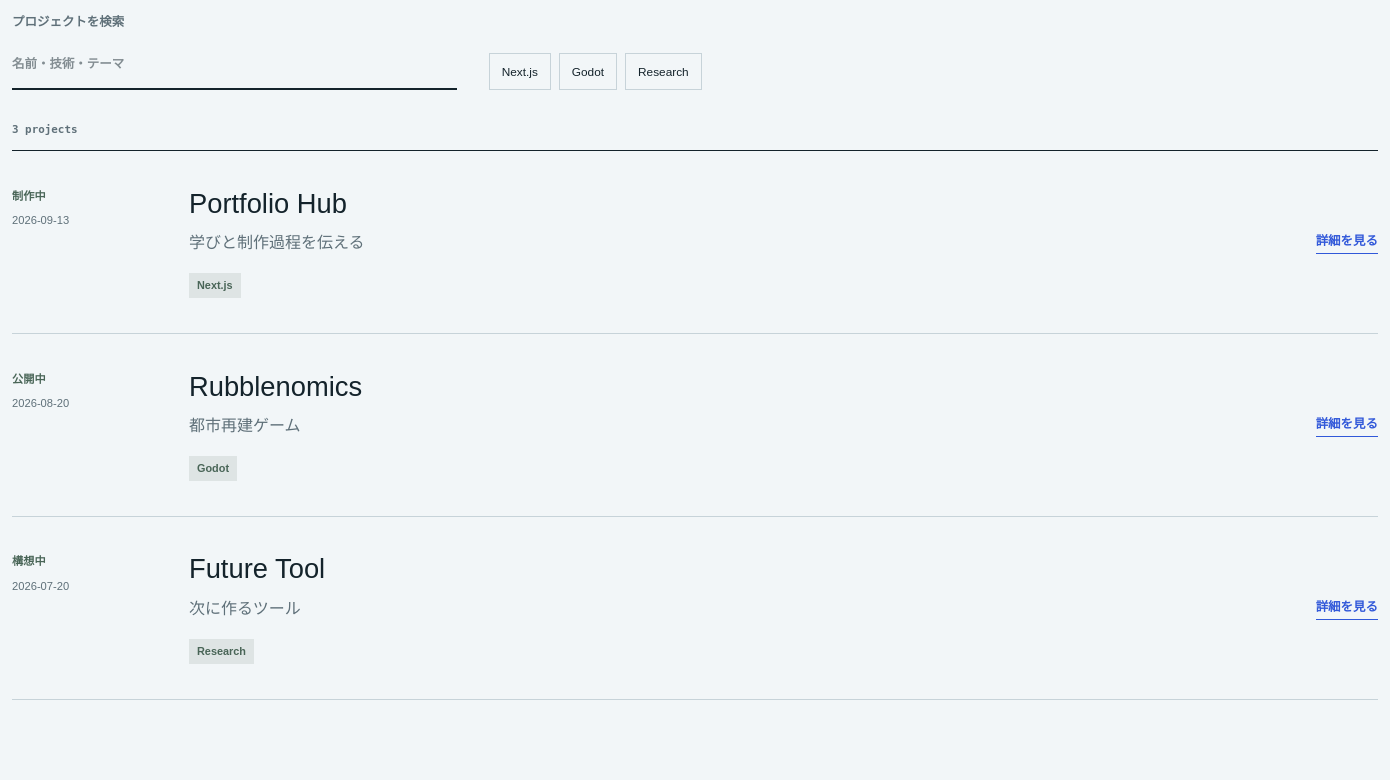
Scenario: ProjectExplorer › filters projects and exposes an empty state
Type "Godot" into the search field at point(234, 66), box x1=12 y1=41 x2=457 y2=90
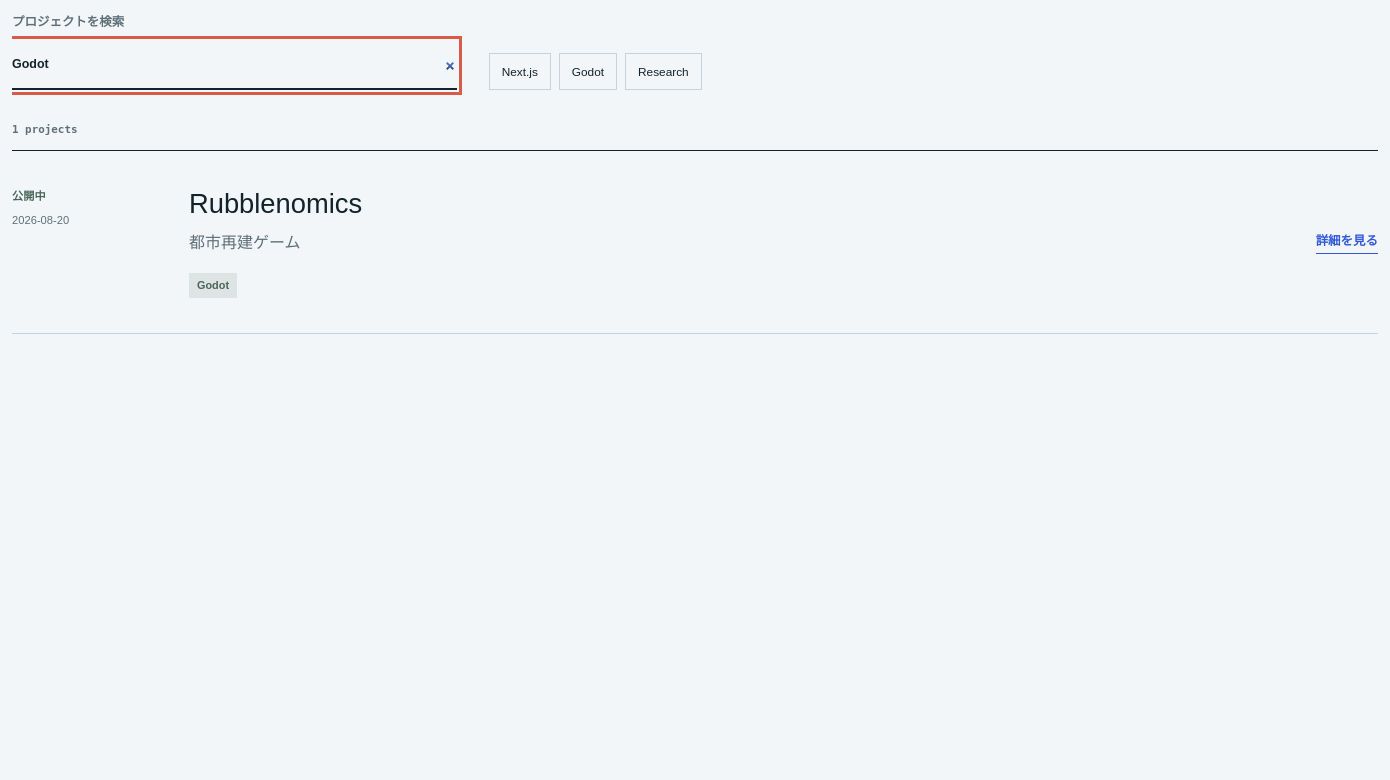
Expected: the link with aria-label "Rubblenomics" is shown, x1=1316 y1=231 x2=1378 y2=254
Expected: the heading "Portfolio Hub" is gone
Replace the text in the search field with "存在しない" at point(234, 66), box x1=12 y1=41 x2=457 y2=90
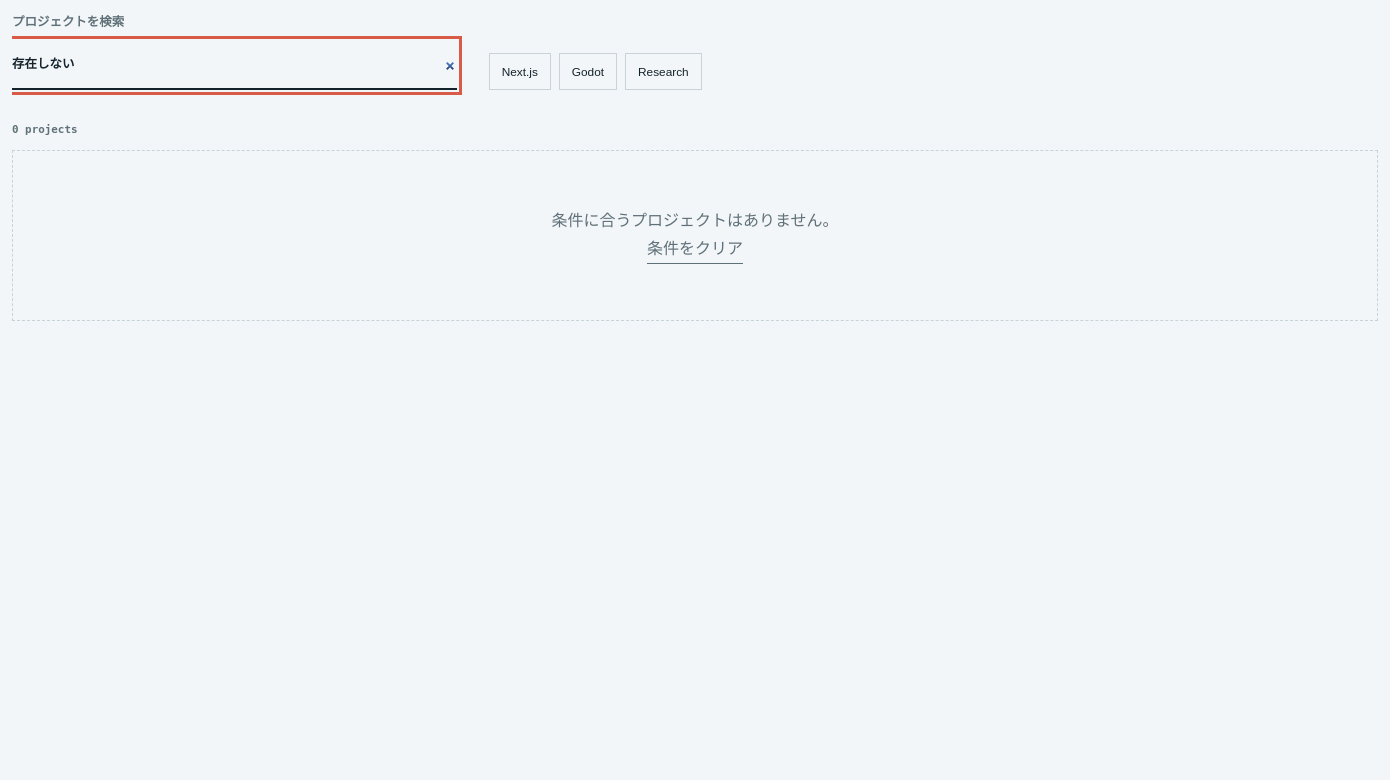
Expected: the text "条件に合うプロジェクトはありません。" is shown, x1=551 y1=212 x2=839 y2=230
Click the button "条件をクリア" at point(695, 250), box x1=647 y1=236 x2=743 y2=264
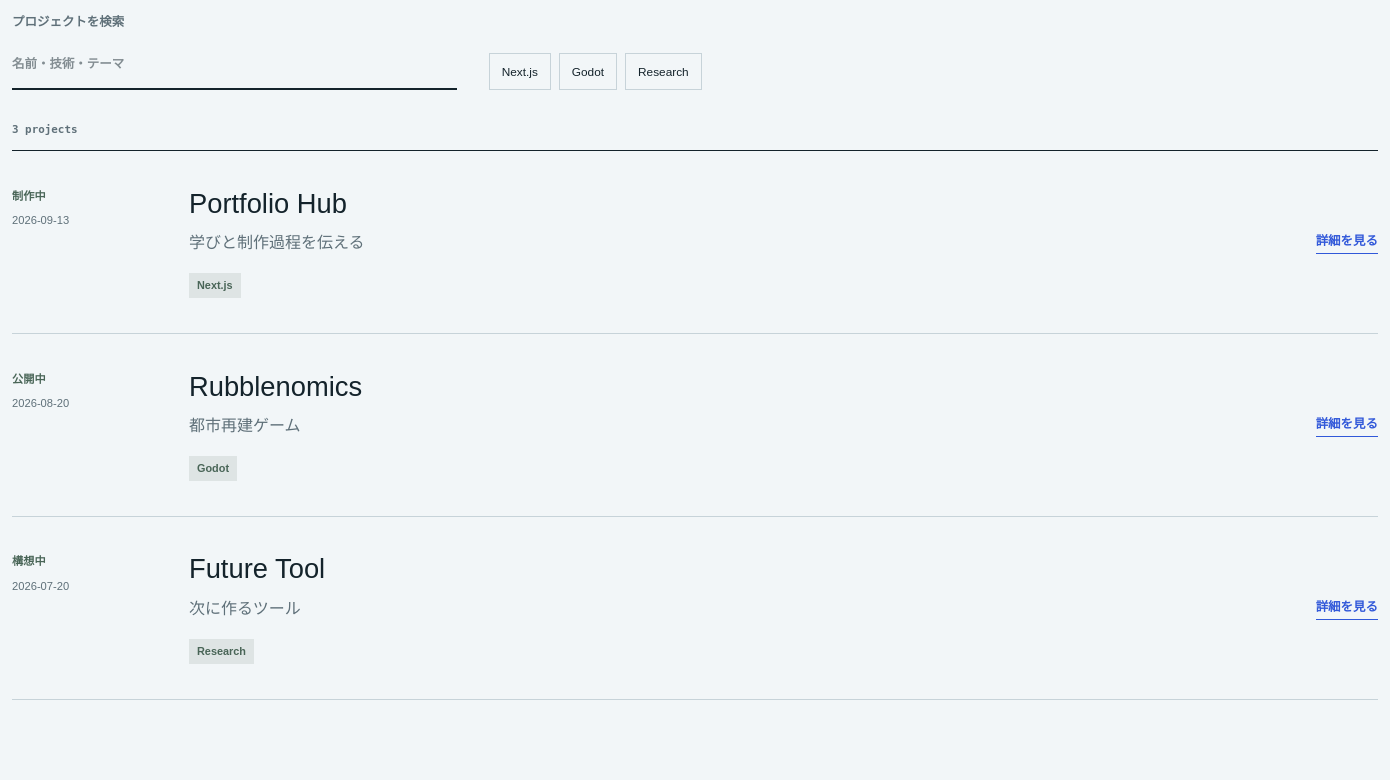
Expected: the text "3 projects" is shown, x1=12 y1=123 x2=78 y2=136
